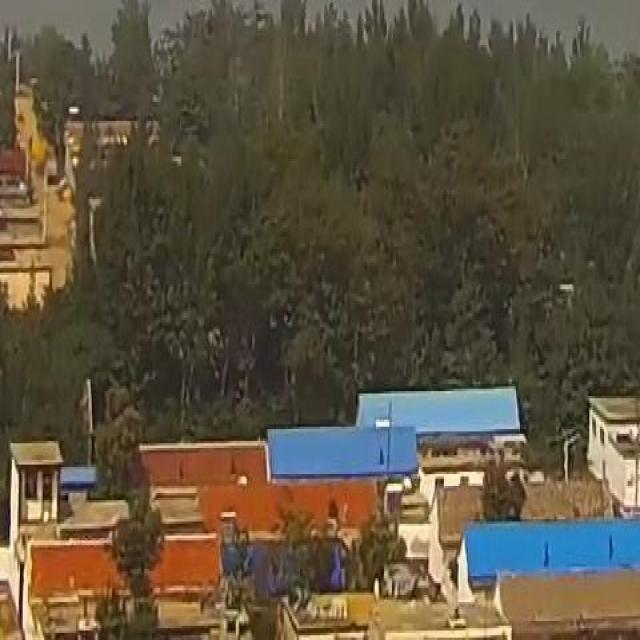other: (24, 437, 368, 596)
